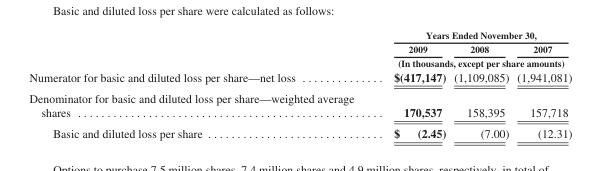table: (28, 29, 571, 139)
table column: (28, 29, 373, 139), (373, 29, 449, 139), (449, 29, 512, 139), (512, 29, 571, 139)
table column header: (28, 29, 571, 69)
table row: (28, 87, 571, 122), (28, 69, 571, 87), (28, 122, 571, 139), (28, 41, 571, 56), (28, 56, 571, 69), (28, 29, 571, 41)
table spanning cell: (373, 56, 571, 69), (373, 29, 571, 41)
